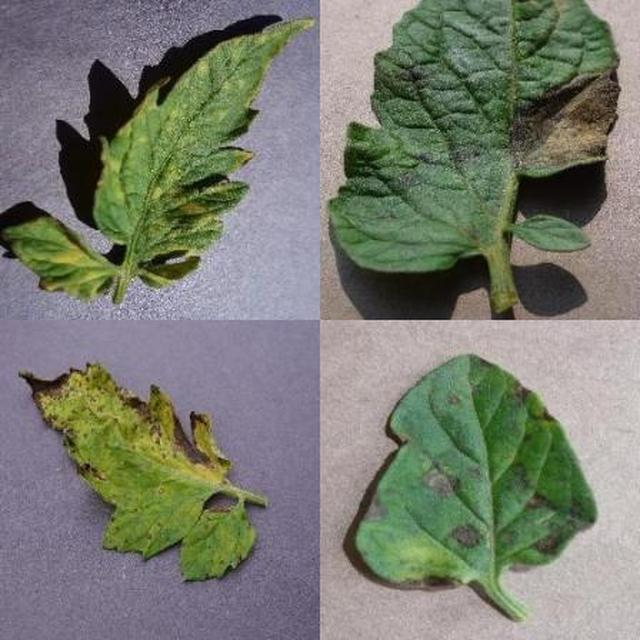Leaf Mold: (84, 128, 640, 640)
